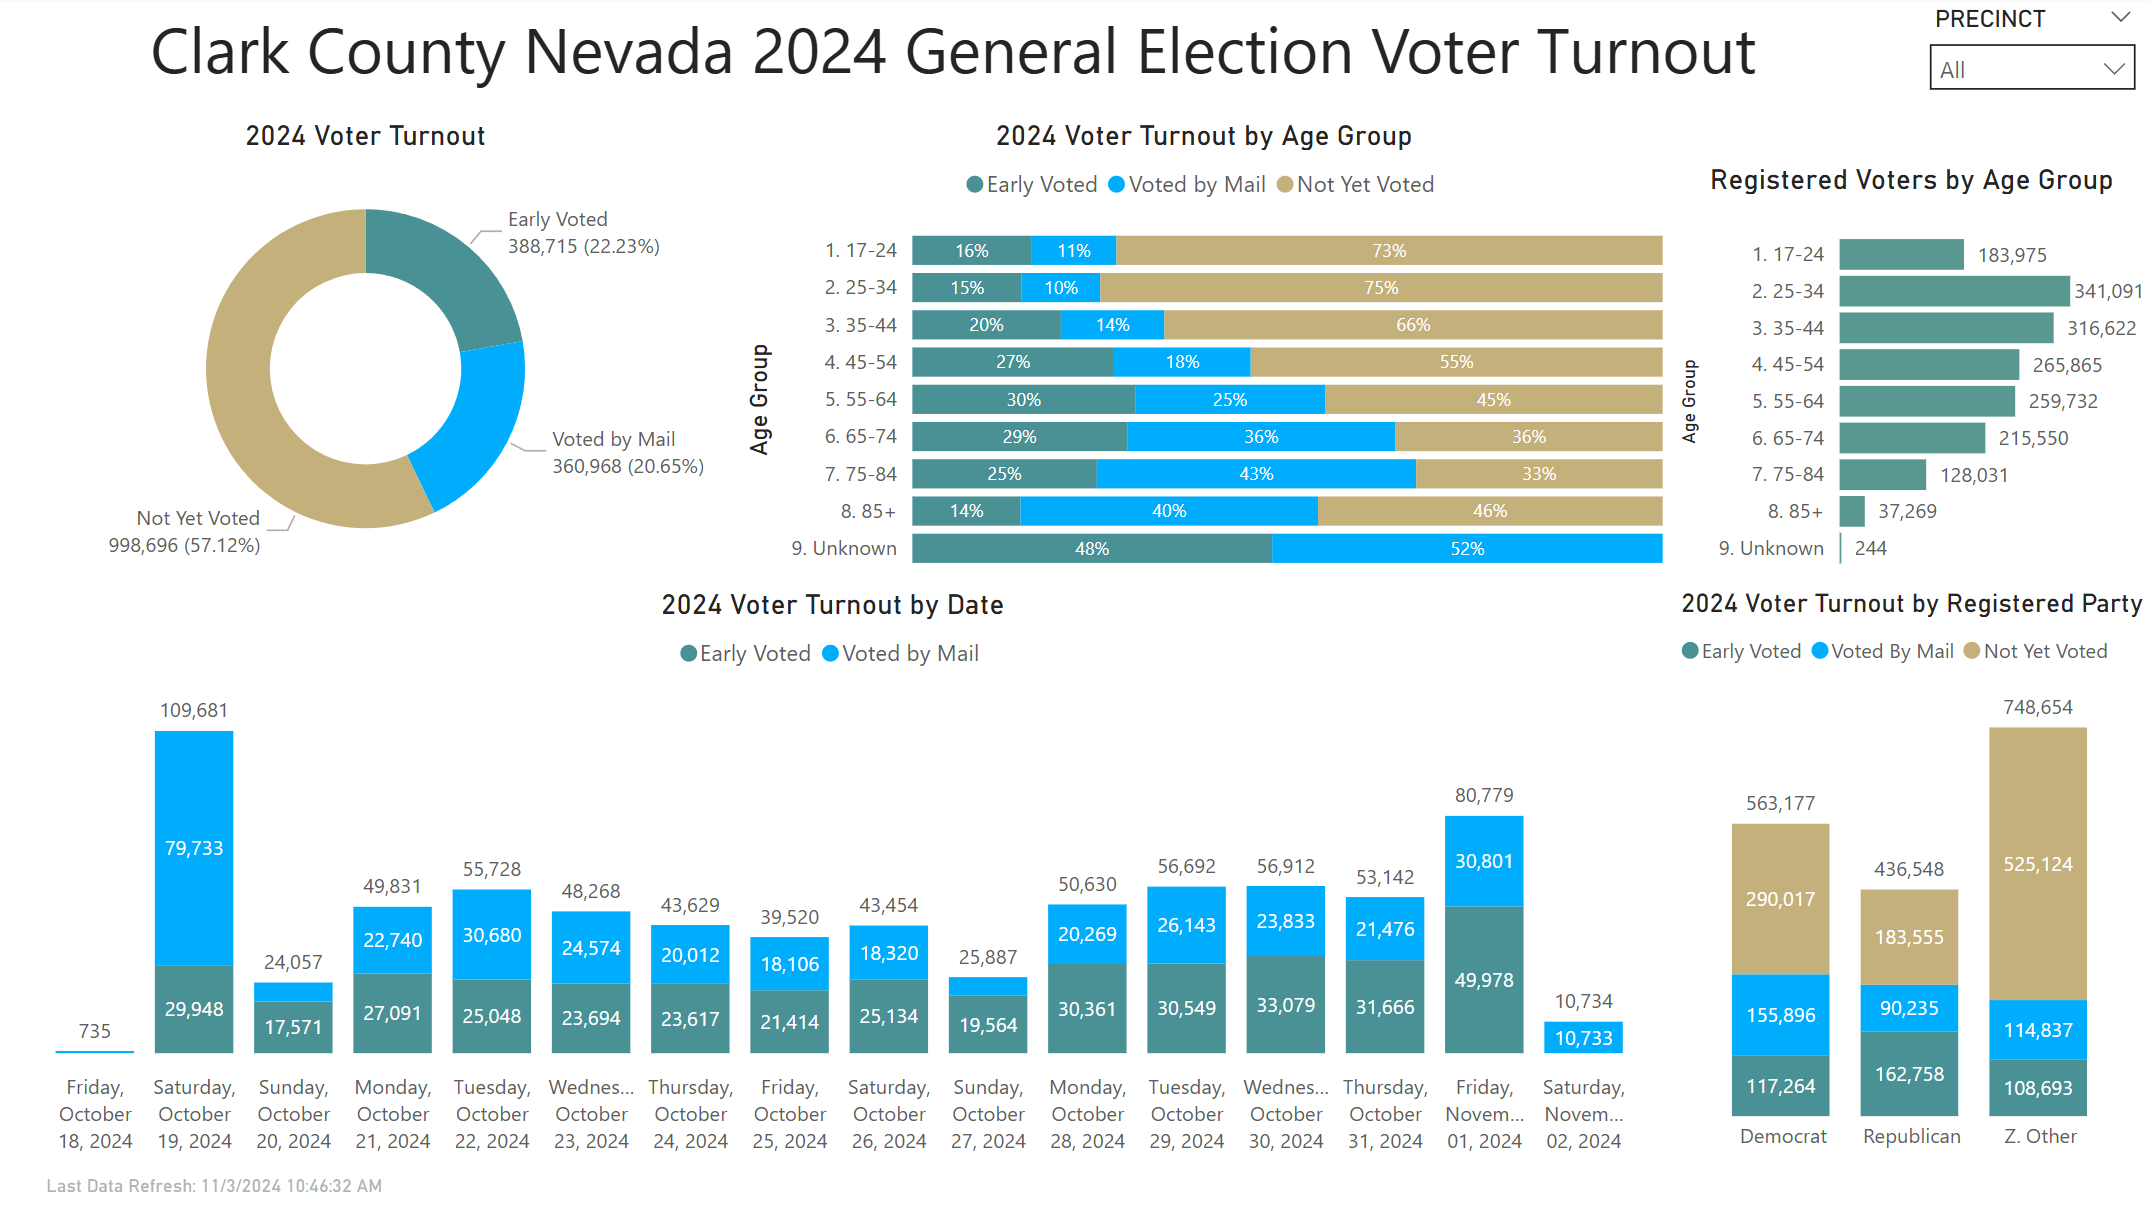

The page's visual inventory and layout, read from the dashboard file:
{"tool":"powerbi","page":{"name":"Dashboard","canvas":[1280,720],"ordinal":0},"visuals":[{"type":"columnChart","title":"2024 Voter Turnout by Date","fields":{"Category":["VoteStatus_20241028.G2024_Voted_Date"],"Y":["Sum(VoteStatus_20241028.Voted_Early)","Sum(VoteStatus_20241028.Voted_Mail)"]},"box":[0,349.7,995.1,343.8],"z":0},{"type":"donutChart","title":"2024 Voter Turnout","fields":{"Y":["Sum(VoteStatus_20241028.Voted_Early)","Sum(VoteStatus_20241028.Voted_Mail)","Sum(VoteStatus_20241028.Not_Voted)"]},"box":[0,71.6,440.7,278.4],"z":1000},{"type":"hundredPercentStackedBarChart","title":"2024 Voter Turnout by Age Group","fields":{"Category":["VoteStatus_20241028.Age_Group"],"Y":["Sum(VoteStatus_20241028.Voted_Early)","Sum(VoteStatus_20241028.Voted_Mail)","Sum(VoteStatus_20241028.Not_Voted)"]},"box":[440.7,71.6,554.1,278.4],"z":2000},{"type":"textbox","title":"Title","box":[0,0,1138,71.6],"z":3000},{"type":"columnChart","title":"2024 Voter Turnout by Registered Party","fields":{"Category":["VoteStatus_20241028.PARTY"],"Y":["Sum(VoteStatus.Voted_Early)","Sum(VoteStatus.Voted_Mail)","Sum(VoteStatus.Not_Voted)"]},"box":[995.1,349.7,284.9,343.8],"z":4000},{"type":"slicer","title":"Precinct Slicer","fields":{"Values":["VoteStatus_20241028.PRECINCT"]},"box":[1138,0,142.4,59.8],"z":5000},{"type":"barChart","title":"Registered Voters by Age Group","fields":{"Category":["VoteStatus_20241028.Age_Group"],"Y":["Sum(VoteStatus.QTY)"]},"box":[994.8,97.9,285.6,252.1],"z":6000},{"type":"card","title":"Last Data Refresh","fields":{"Values":["Reload Time.Refresh Time Label"]},"box":[0,693.5,261.3,26.5],"z":7000}]}

Visuals, with their boxes in screenshot pixels (x1, y1, x2, y2), scaled from the page's 1280x720 canvas onto the 2148x1207 screenshot:
"2024 Voter Turnout by Date" columnChart: rect(0, 586, 1670, 1163)
"2024 Voter Turnout" donutChart: rect(0, 120, 740, 587)
"2024 Voter Turnout by Age Group" hundredPercentStackedBarChart: rect(740, 120, 1669, 587)
"Title" textbox: rect(0, 0, 1910, 120)
"2024 Voter Turnout by Registered Party" columnChart: rect(1670, 586, 2147, 1163)
"Precinct Slicer" slicer: rect(1910, 0, 2147, 100)
"Registered Voters by Age Group" barChart: rect(1669, 164, 2147, 587)
"Last Data Refresh" card: rect(0, 1163, 438, 1206)
